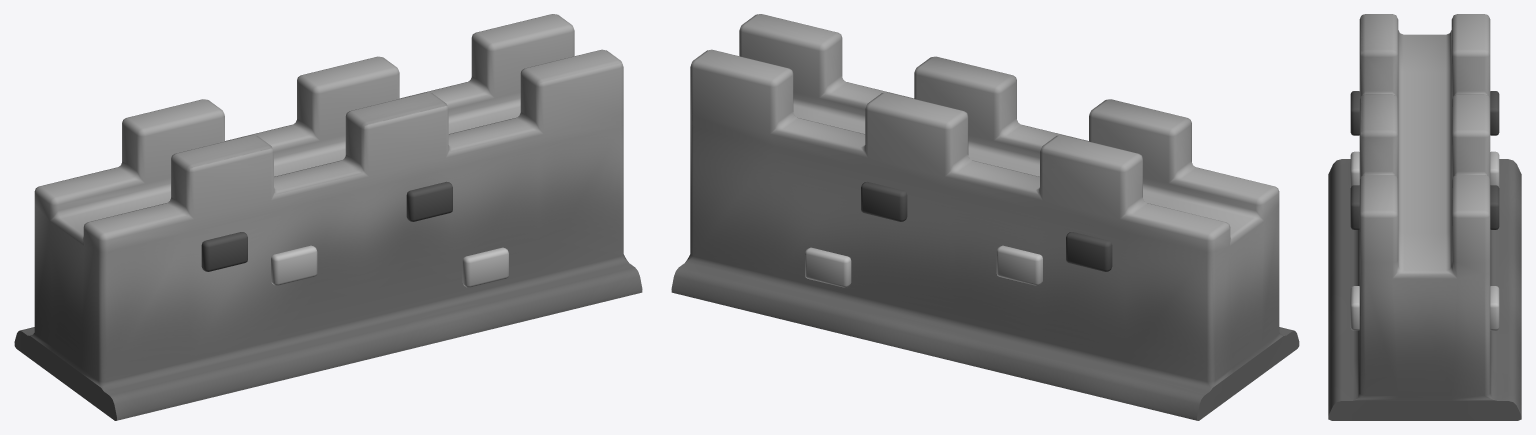
Rendered from wall.fbx.
3 renders of one model, left to right at view 1: azimuth 30°, elevation 25°; view 2: azimuth 150°, elevation 25°; view 3: azimuth 270°, elevation 25°, orthographic. The views are drawn at different scales.
Visible parts, largest first — view 1: wall.013; view 2: wall.013; view 3: wall.013.
Boxes of the visible parts, x1,y1,x2,y2 form: wall.013: (14,14,642,420); wall.013: (671,14,1299,420); wall.013: (1328,14,1521,420).
Bounding box in the file's own units: 1181 × 474 × 399.
Materials: 1 (1 with a texture image).
